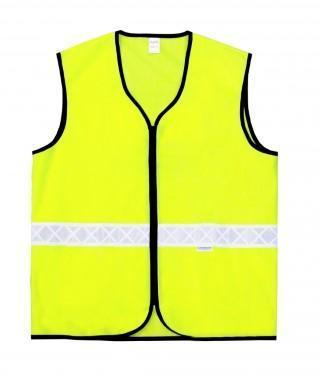vest: (28, 29, 281, 342)
